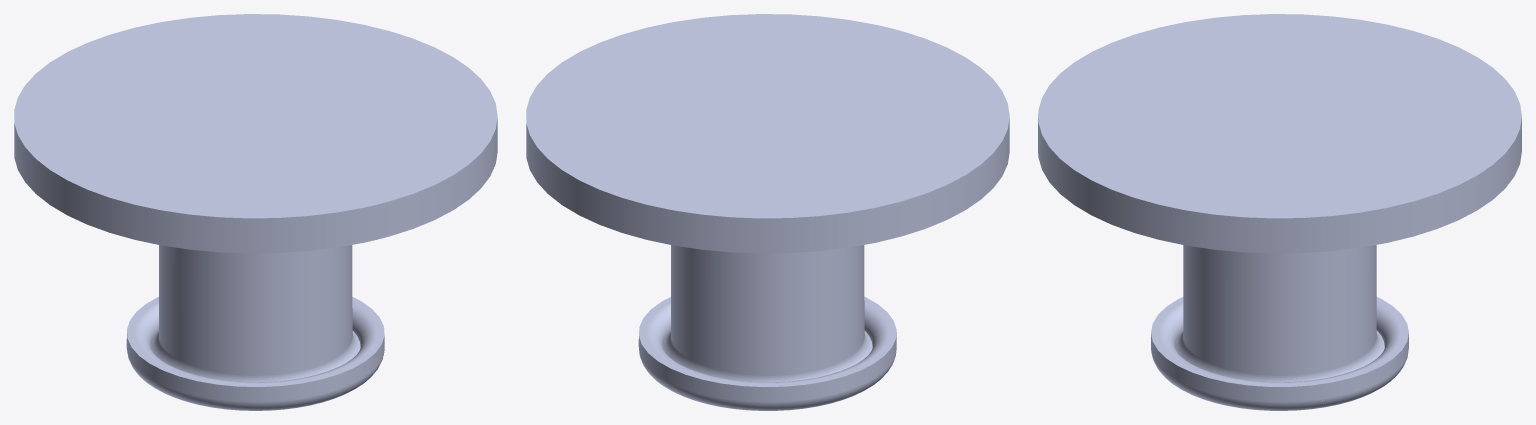
File: pino 1.dae
3 views of the same model, side by side, from view 1: azimuth 30°, elevation 25°; view 2: azimuth 150°, elevation 25°; view 3: azimuth 270°, elevation 25° (orthographic).
Parts seen in each view (by area): view 1: node_4b2e8fca_2c17_4615_8c6c_b83e497fc472_mesh0; view 2: node_4b2e8fca_2c17_4615_8c6c_b83e497fc472_mesh0; view 3: node_4b2e8fca_2c17_4615_8c6c_b83e497fc472_mesh0.
Boxes of the visible parts, box(x1,y1,x2,y2) form: node_4b2e8fca_2c17_4615_8c6c_b83e497fc472_mesh0: box(14, 14, 497, 410); node_4b2e8fca_2c17_4615_8c6c_b83e497fc472_mesh0: box(526, 14, 1009, 410); node_4b2e8fca_2c17_4615_8c6c_b83e497fc472_mesh0: box(1038, 14, 1521, 410).
Bounding box in the file's own units: 0.015 × 0.0084 × 0.015.
